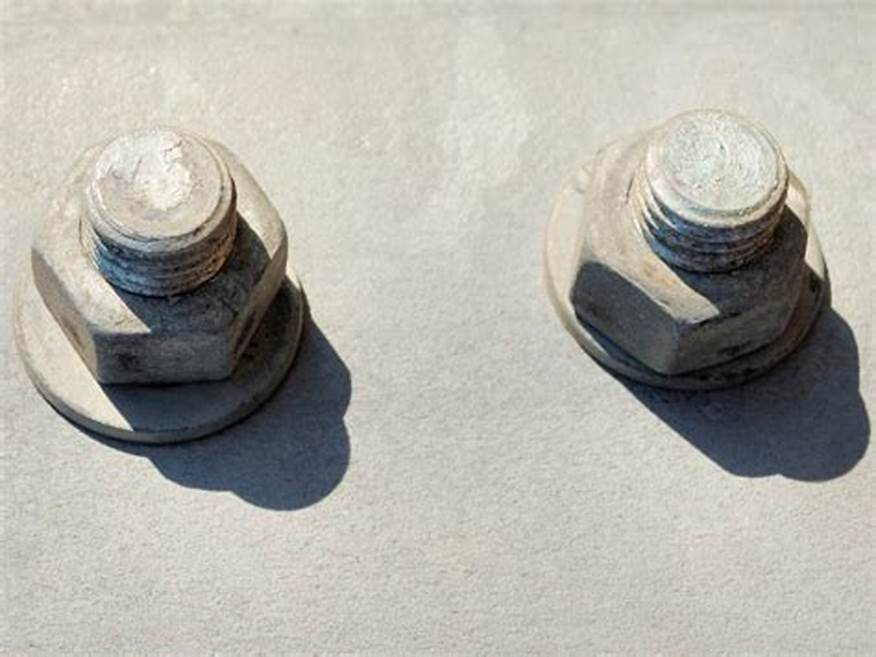bolt_b: (28, 127, 286, 388), (566, 107, 809, 378)
